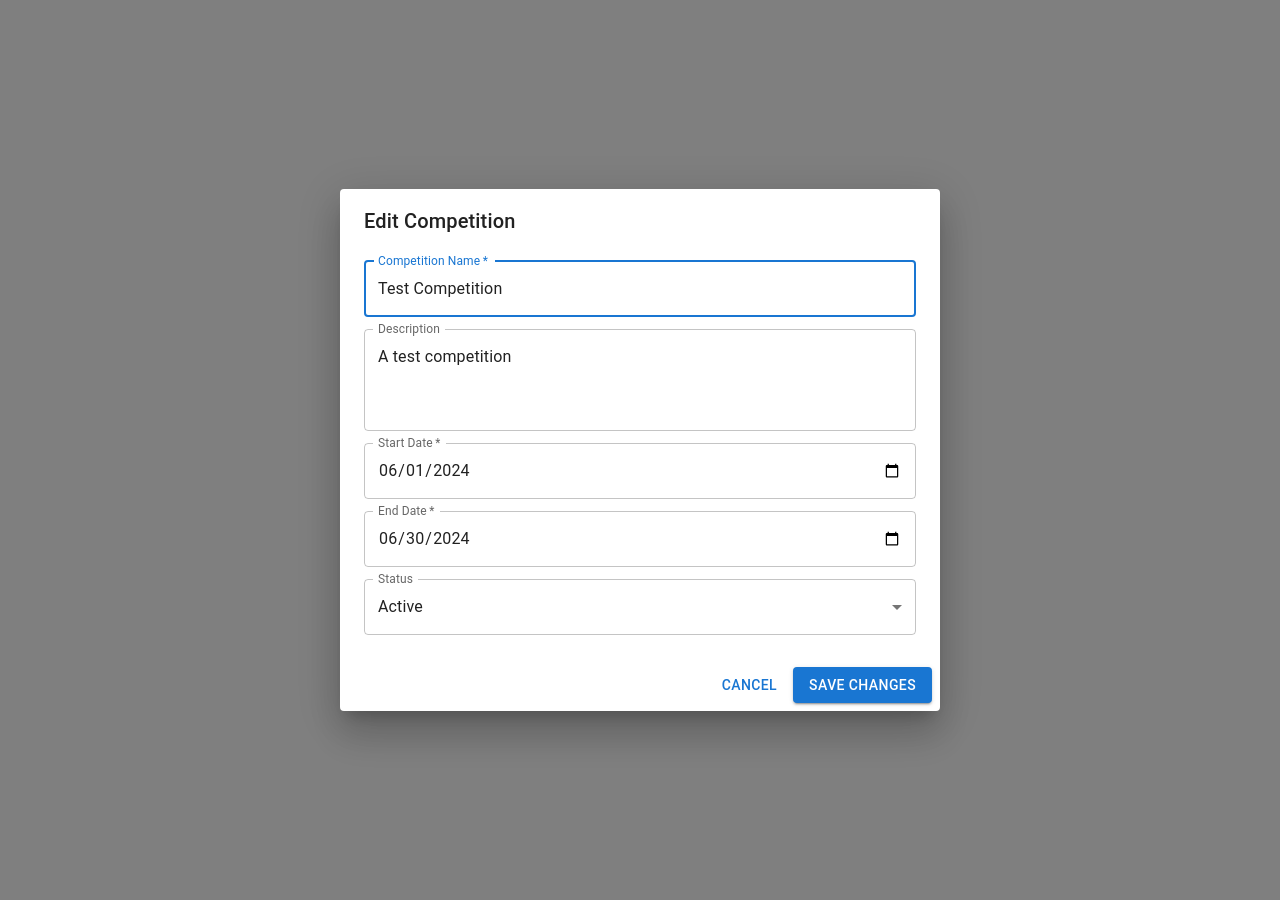
Test: EditCompetitionModal › validates that end date is after start date
The image size is (1280, 900).
Expected: the heading "Edit Competition" is shown, [364,209,516,233]
Note: Change dates so end is before start
Type "2024-07-01" into the date field labelled "Start Date *" at x=640, y=471, box [364,443,916,499]
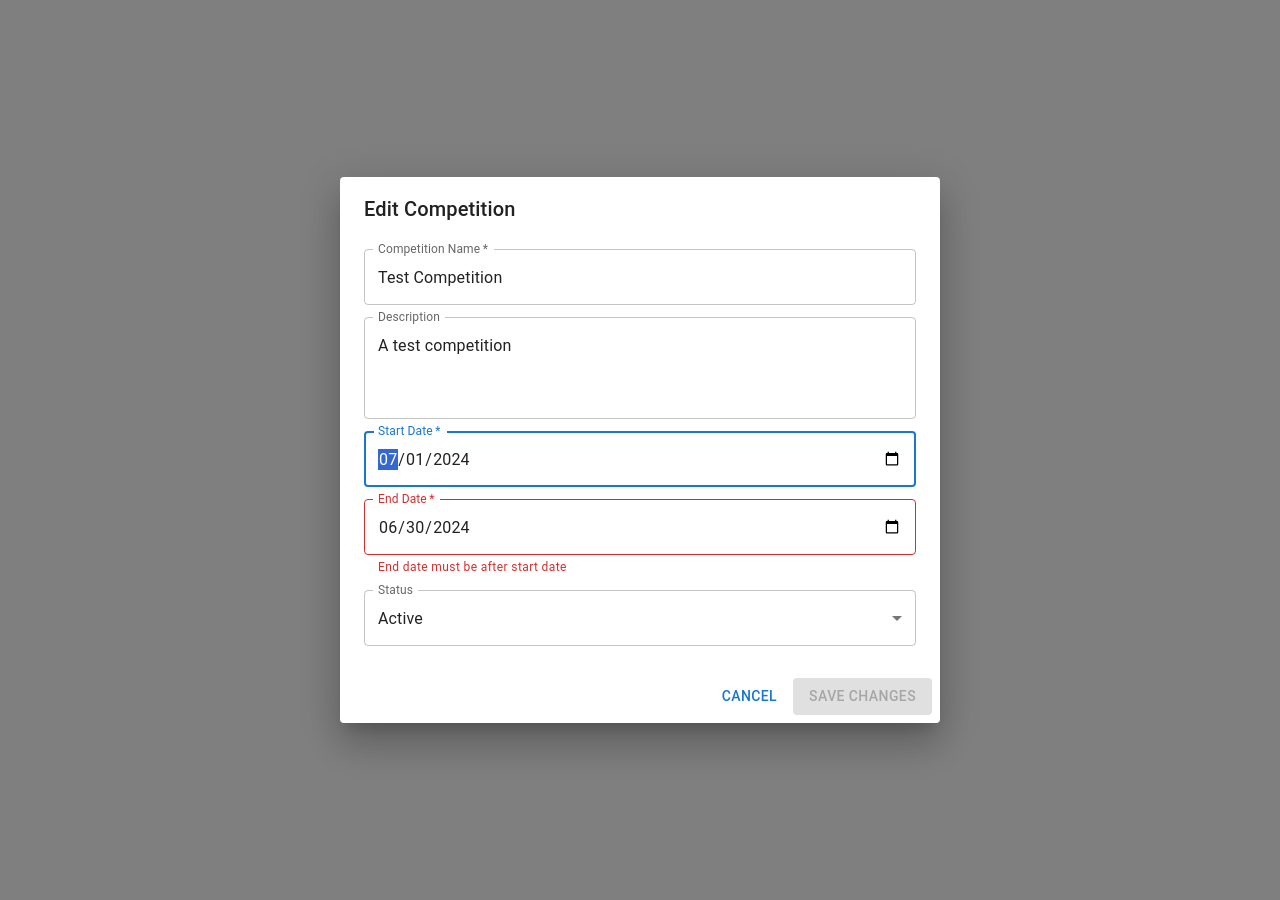
Clear the date field labelled "End Date *" at x=640, y=527, box [364,499,916,555]
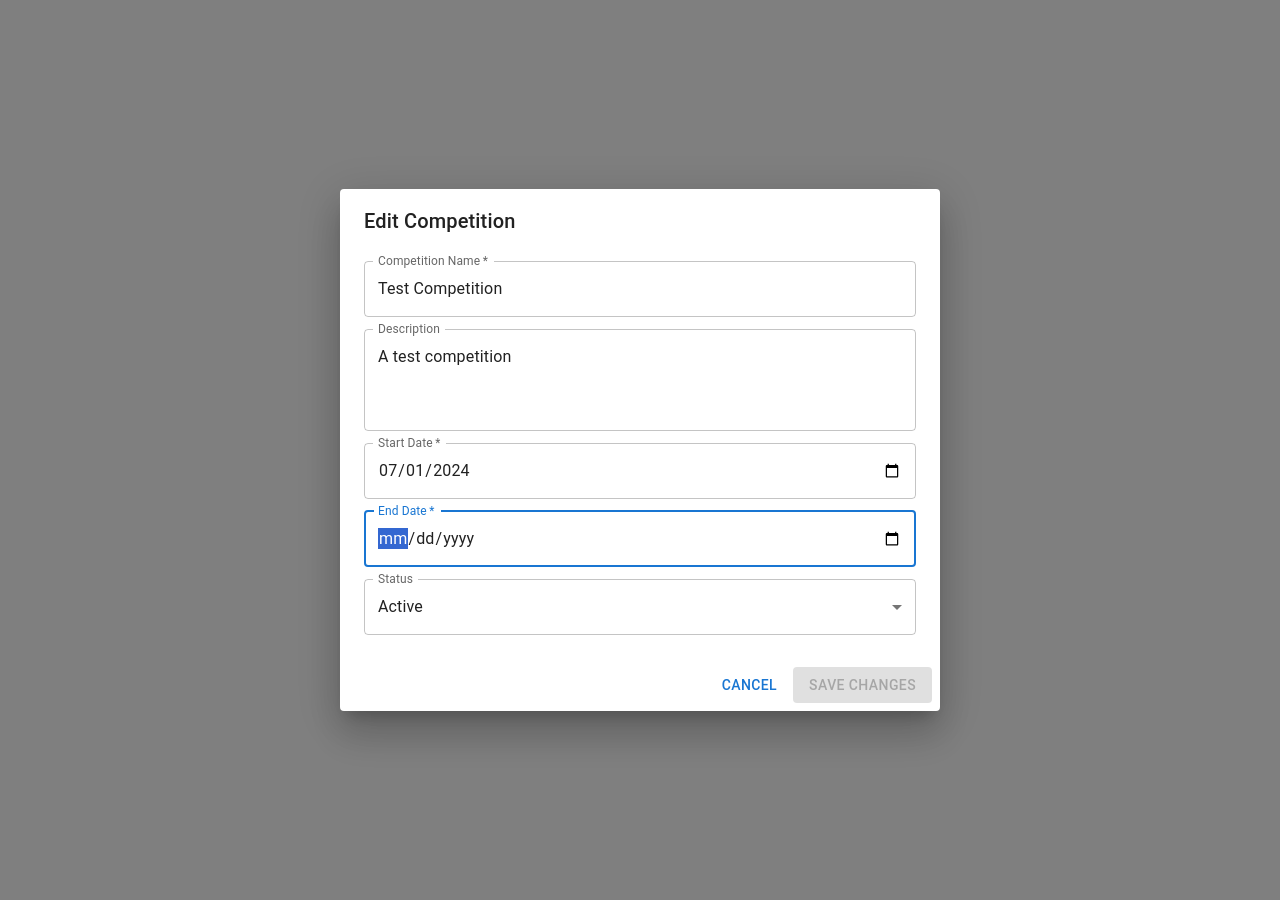
Type "2024-06-01" into the date field labelled "End Date *" at x=640, y=539, box [364,511,916,567]
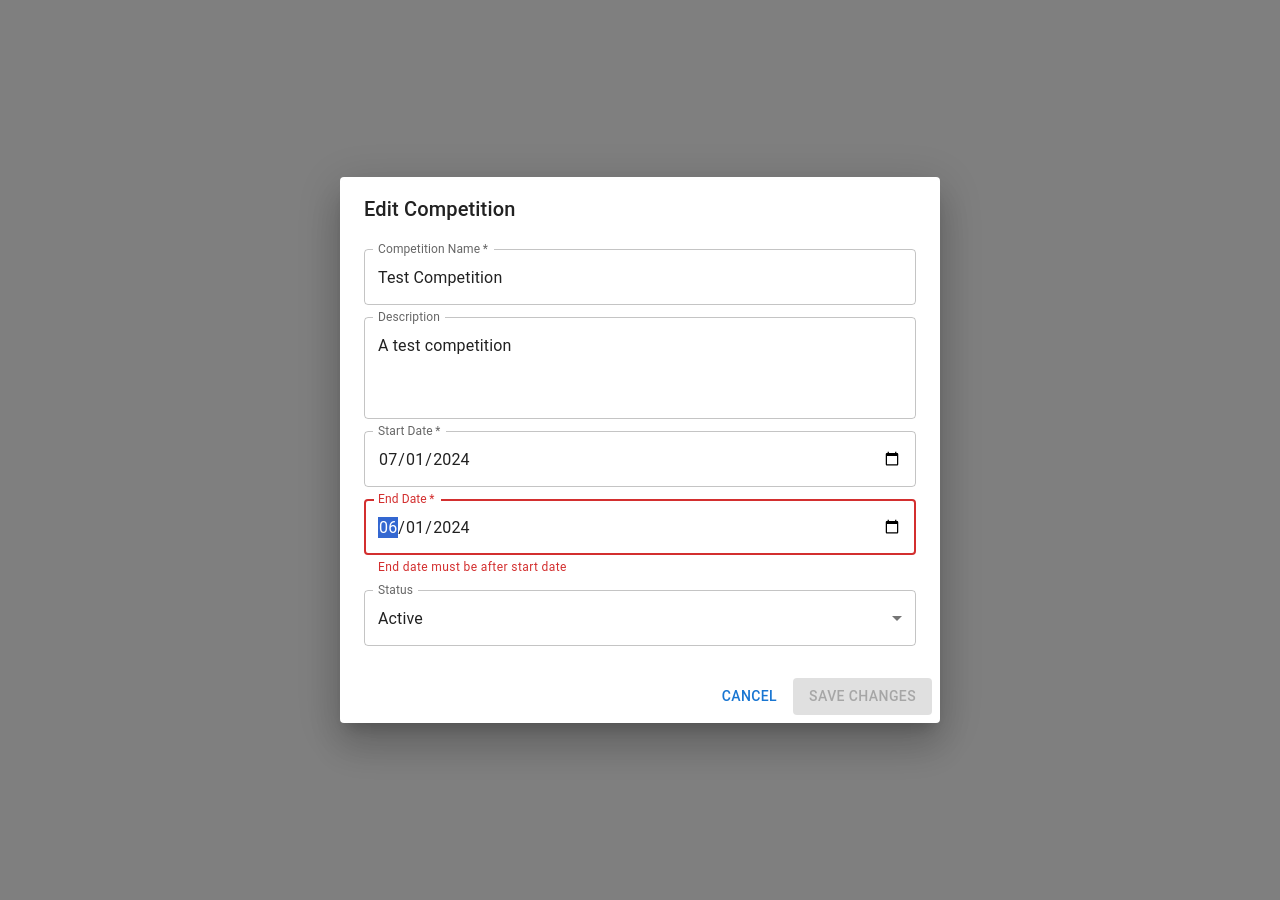
Now the button "Save Changes" is disabled, box [793,678,932,715]
Now the text "End date must be after start date" is shown, box [378,560,567,574]
